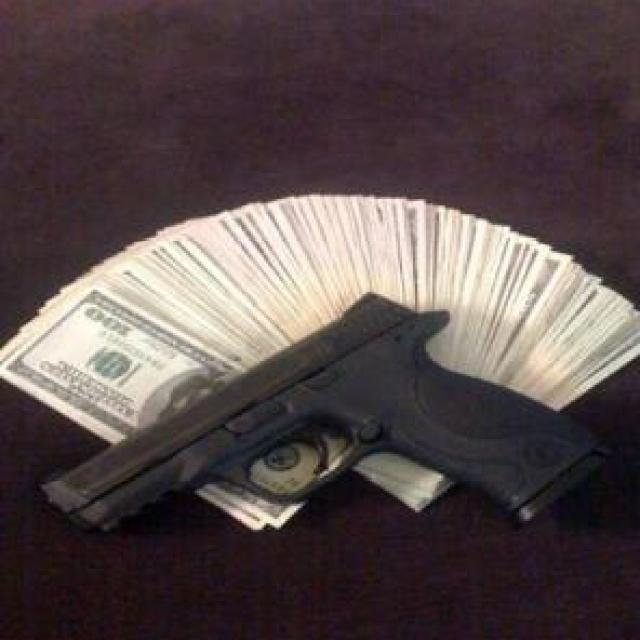pistol: (43, 290, 600, 546)
